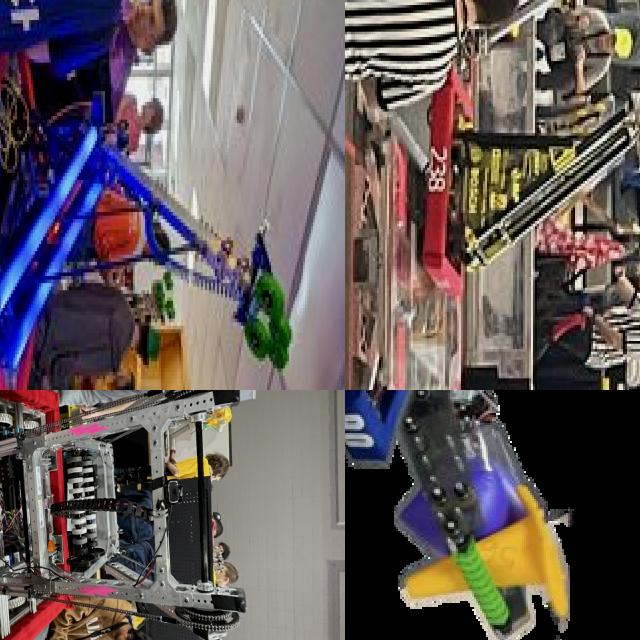FRC-Robots: (0, 75, 337, 390), (345, 390, 640, 640), (0, 390, 252, 640), (417, 53, 637, 293)
